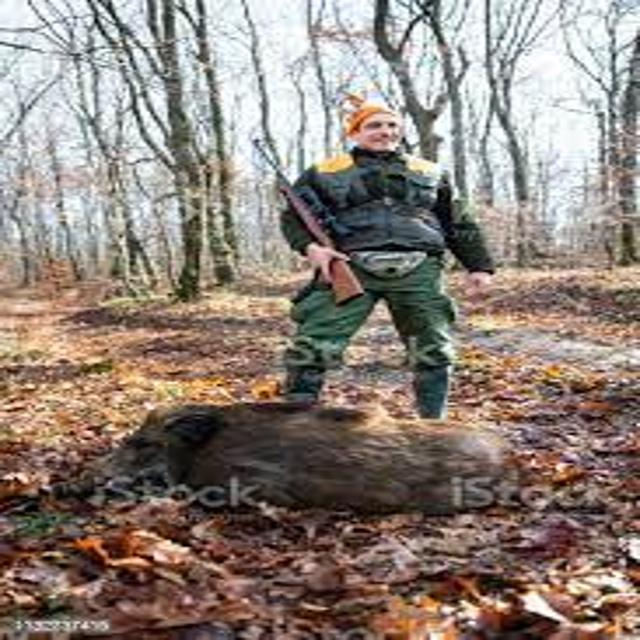gun: (237, 103, 383, 343)
poacher: (232, 74, 526, 453)
